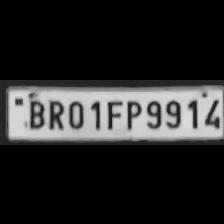0: (64, 96, 86, 130)
1: (86, 97, 104, 129), (182, 96, 200, 128)
4: (200, 94, 222, 128)
9: (162, 96, 182, 128), (144, 96, 162, 130)
B: (24, 96, 44, 128)
F: (102, 96, 122, 130)
P: (122, 96, 142, 130)
R: (46, 96, 64, 130)
